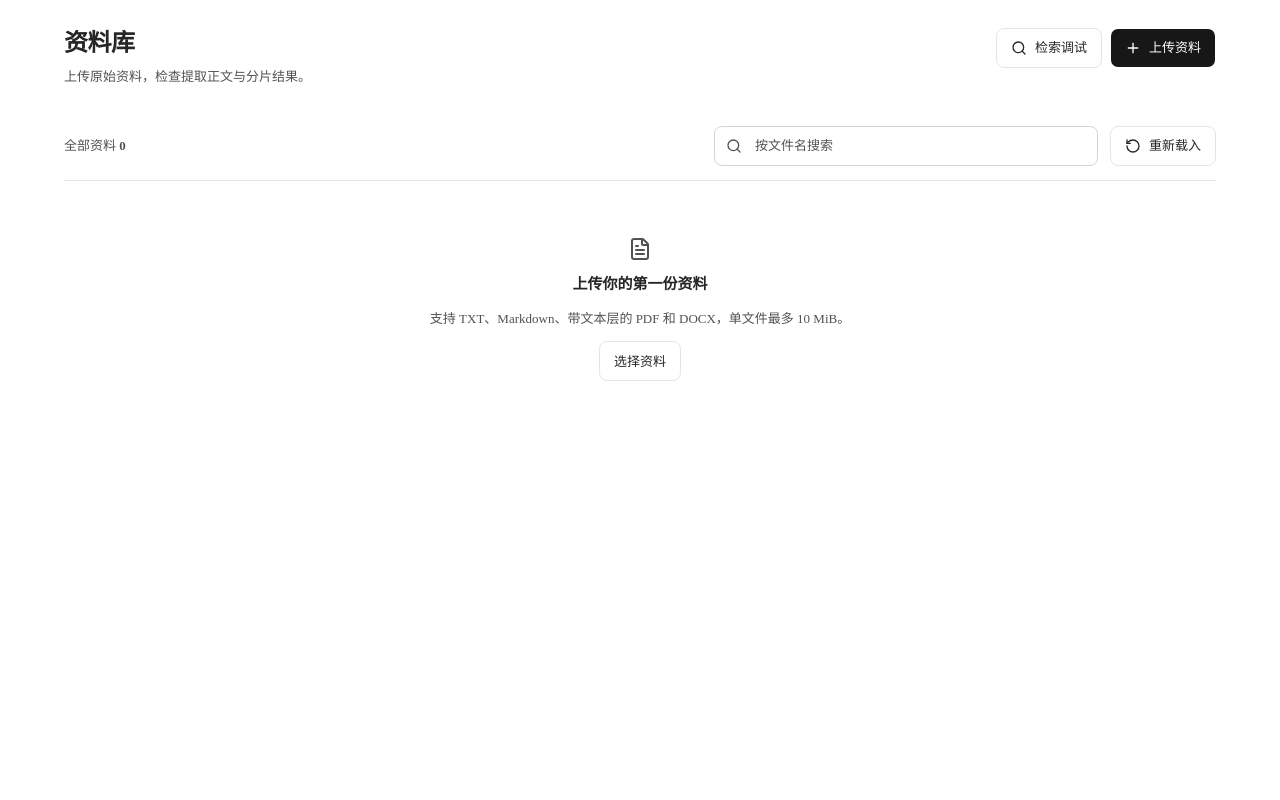
Test: independent shadcn knowledge upload and source controls › opens a modal from 上传资料 and restores the actual opener after dismissal
Expected: the heading "上传你的第一份资料" is shown, [572,273,708,296]
Click the button "上传资料" at x=1163, y=48, box [1110,28,1216,68]
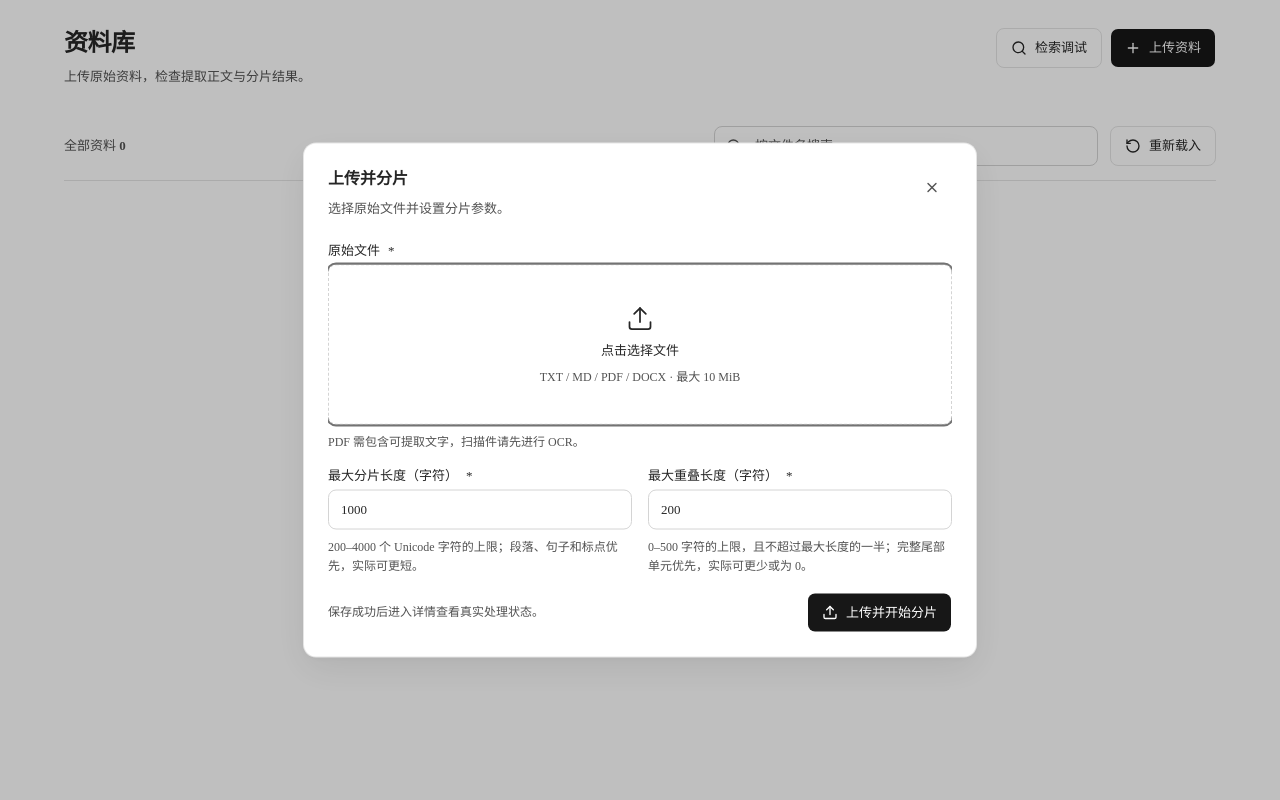
Click the button named "关闭上传表单" at x=932, y=188, box [912,168,952,208]
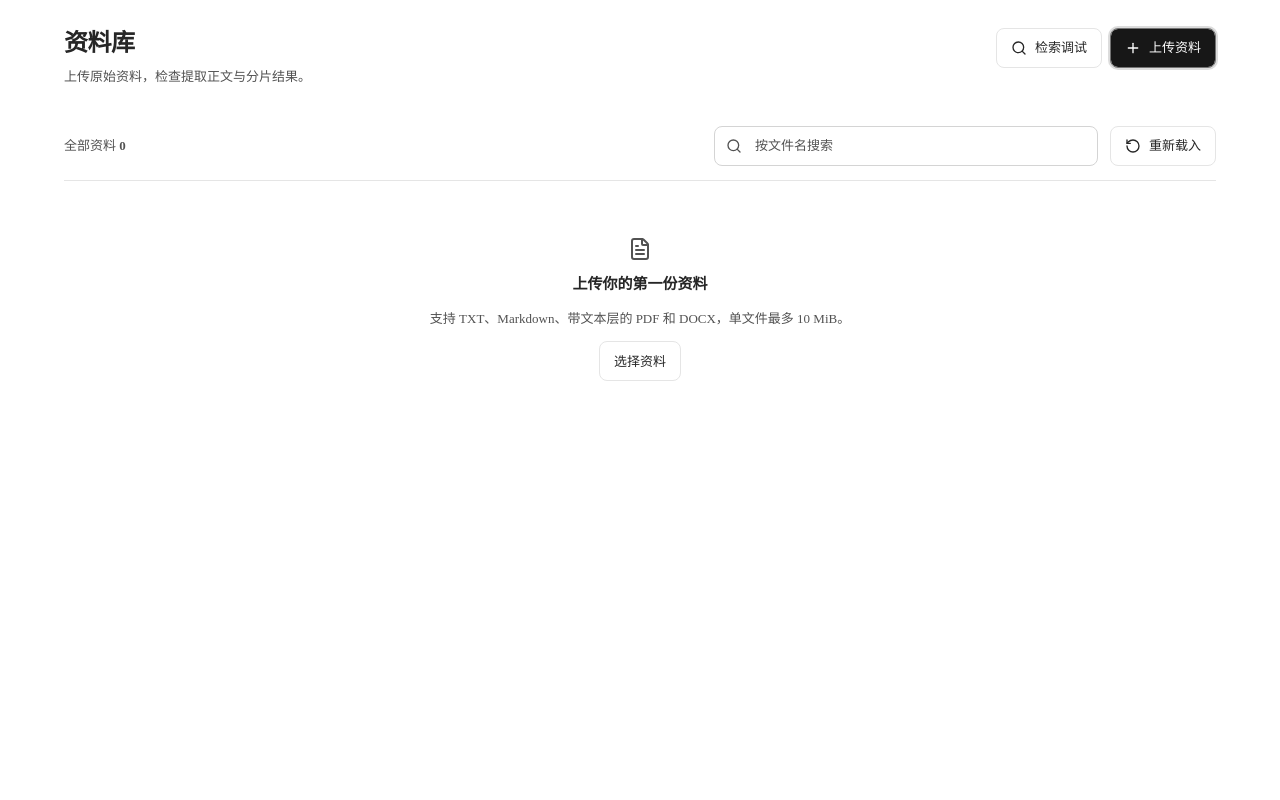
Expected: the dialog is gone
Expected: the text labelled "原始文件" is gone
Click the button "上传资料" at x=1163, y=48, box [1110,28,1216,68]
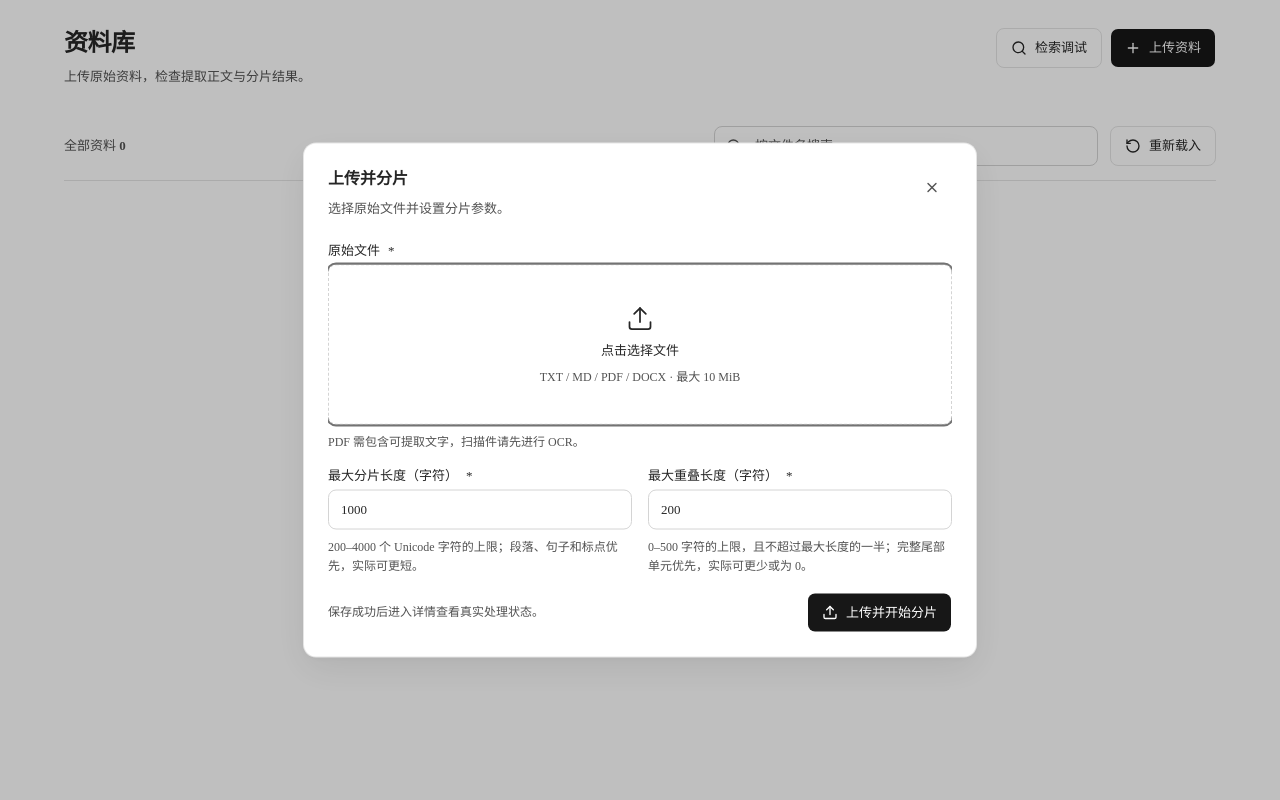
Press Escape
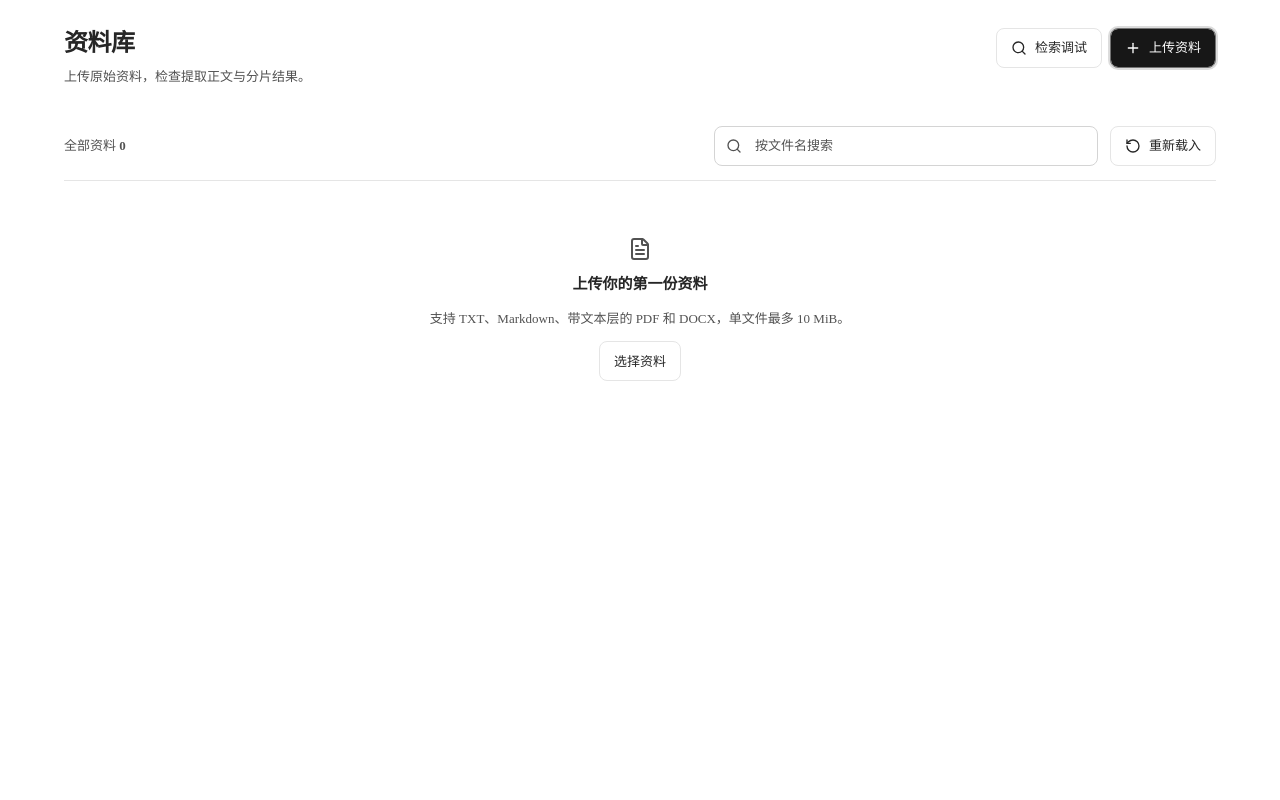
Expected: the dialog is gone
Expected: the text labelled "原始文件" is gone
